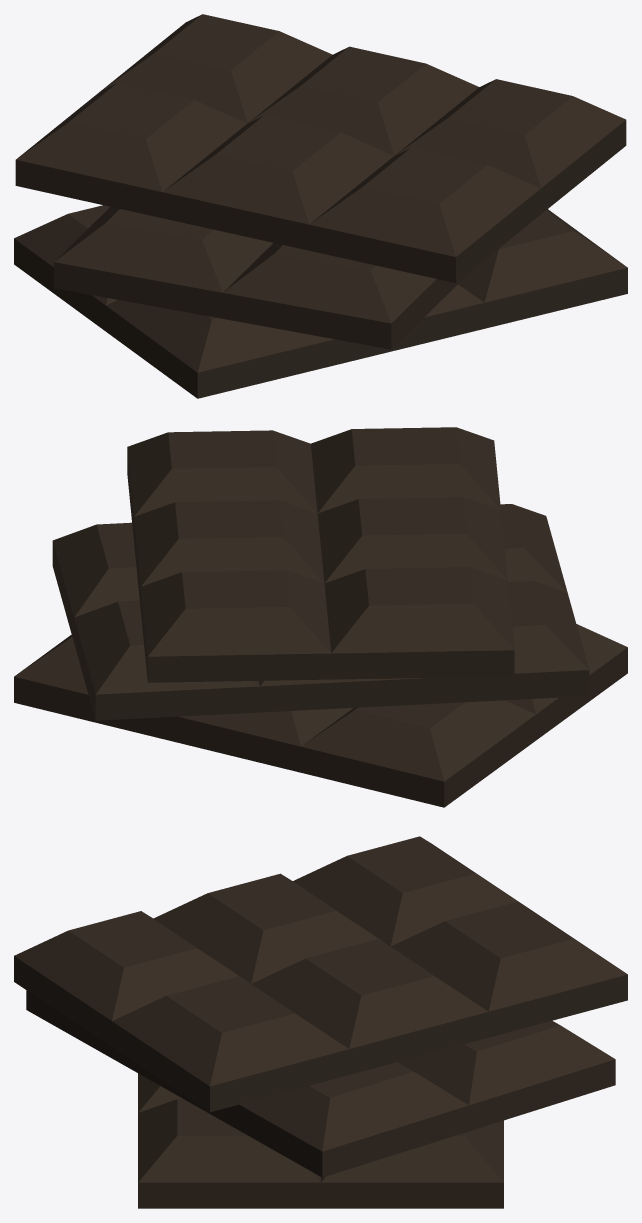
Rendered from Chocolate_Stack.fbx.
The picture shows the model from 3 angles, top to bottom: view 1: azimuth 30°, elevation 25°; view 2: azimuth 150°, elevation 25°; view 3: azimuth 270°, elevation 25°; orthographic projection.
Visible parts, largest first — view 1: Bar_3, Bar_1, Bar_2; view 2: Bar_3, Bar_2, Bar_1; view 3: Bar_3, Bar_2, Bar_1.
Boxes of the visible parts, box(x1,y1,x2,y2) form: Bar_3: box(15, 14, 626, 282); Bar_1: box(14, 205, 627, 398); Bar_2: box(54, 207, 471, 349); Bar_3: box(127, 427, 514, 682); Bar_2: box(52, 504, 589, 720); Bar_1: box(14, 624, 627, 807); Bar_3: box(14, 836, 627, 1112); Bar_2: box(26, 990, 615, 1177); Bar_1: box(138, 1073, 503, 1208).
Bounding box in the file's own units: 108 × 32.79 × 108.
